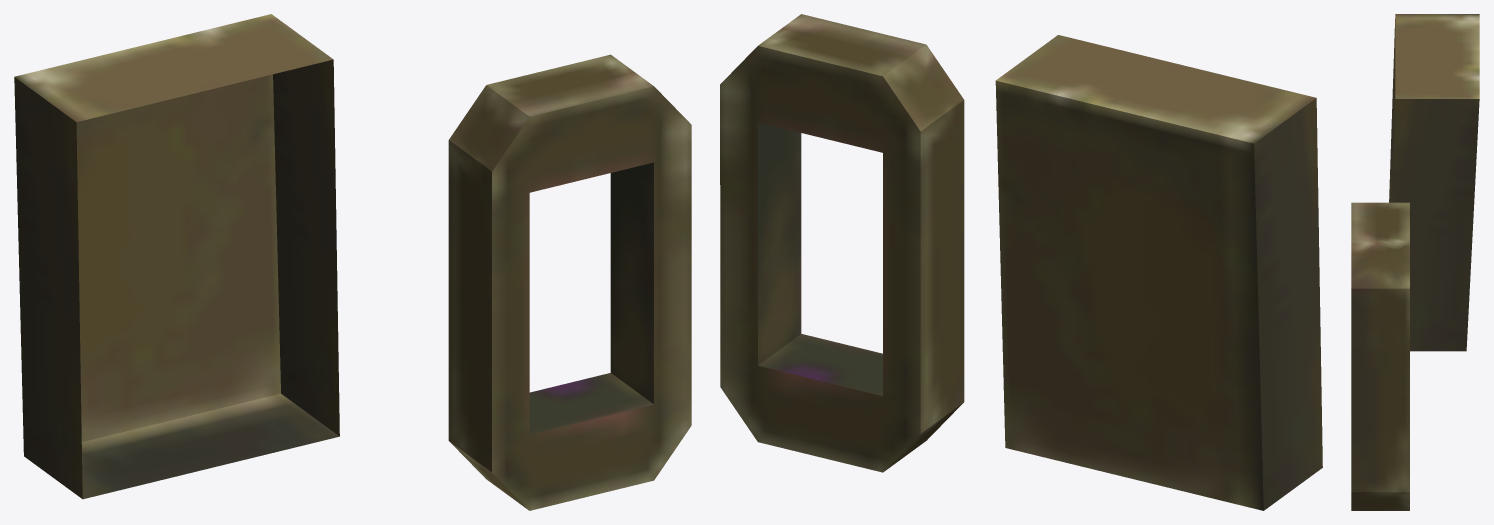
Rendered from Yx_tielian01.FBX.
The picture shows the model from 3 angles, left to right: view 1: azimuth 30°, elevation 25°; view 2: azimuth 150°, elevation 25°; view 3: azimuth 270°, elevation 25°; orthographic projection. The views are drawn at different scales.
Visible parts, largest first — view 1: Yx_tielian01_001, Yx_tielian01_002; view 2: Yx_tielian01_001, Yx_tielian01_002; view 3: Yx_tielian01_001, Yx_tielian01_002.
Part boxes in pixels (<box>): Yx_tielian01_001: <box>14,14,339,499</box>; Yx_tielian01_002: <box>448,54,691,510</box>; Yx_tielian01_001: <box>995,35,1322,510</box>; Yx_tielian01_002: <box>720,14,964,472</box>; Yx_tielian01_001: <box>1389,14,1479,351</box>; Yx_tielian01_002: <box>1351,202,1409,510</box>.
Bounding box in the file's own units: 300 × 230 × 84.39.
